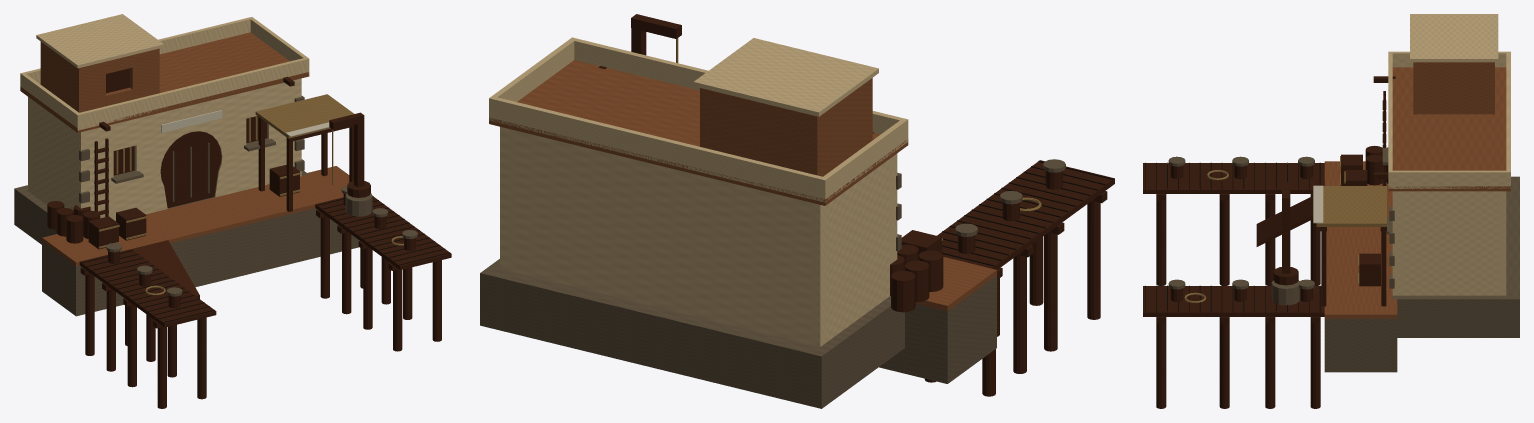
The model's file is Berber_Dock_Age4.fbx.
3 renders of one model, left to right at view 1: azimuth 30°, elevation 25°; view 2: azimuth 150°, elevation 25°; view 3: azimuth 270°, elevation 25°, orthographic. The views are drawn at different scales.
Parts seen in each view (by area): view 1: warehouse_front, quay_foundation, quay_deck, warehouse_roof, upper_roof_storage, west_pier_deck, upper_storage_lime_cap, warehouse_side, roof_end_parapet, east_pier_deck, horseshoe_door, harbour_shade (+31 smaller); view 2: warehouse_back, warehouse_land_plinth, warehouse_roof, upper_roof_storage, warehouse_side, roof_end_parapet.001, upper_storage_lime_cap, west_pier_deck, quay_foundation, roof_end_parapet, roof_side_parapet, quay_deck (+12 smaller); view 3: warehouse_side.001, warehouse_roof, warehouse_land_plinth, quay_deck, west_pier_deck, east_pier_deck, upper_storage_lime_cap, upper_roof_storage, quay_foundation, harbour_shade, roof_side_parapet.001, west_slipway (+23 smaller).
Boxes of the visible parts, x1,y1,x2,y2 form: warehouse_front: [76, 78, 301, 220]; quay_foundation: [42, 208, 359, 316]; quay_deck: [42, 166, 349, 266]; warehouse_roof: [20, 32, 309, 132]; upper_roof_storage: [40, 42, 159, 112]; west_pier_deck: [79, 249, 216, 327]; upper_storage_lime_cap: [36, 14, 164, 68]; warehouse_side: [32, 100, 76, 210]; roof_end_parapet: [79, 58, 305, 129]; east_pier_deck: [315, 196, 451, 269]; horseshoe_door: [160, 131, 221, 207]; harbour_shade: [255, 94, 353, 138]; warehouse_back: [500, 127, 826, 346]; warehouse_land_plinth: [480, 259, 904, 408]; warehouse_roof: [489, 60, 908, 205]; upper_roof_storage: [700, 78, 872, 176]; warehouse_side: [826, 158, 891, 342]; roof_end_parapet.001: [494, 97, 822, 201]; upper_storage_lime_cap: [693, 38, 878, 116]; west_pier_deck: [937, 160, 1114, 269]; quay_foundation: [879, 275, 996, 383]; roof_end_parapet: [574, 38, 902, 134]; roof_side_parapet: [820, 118, 908, 202]; quay_deck: [915, 257, 996, 311]; warehouse_side.001: [1402, 191, 1497, 295]; warehouse_roof: [1388, 67, 1510, 191]; warehouse_land_plinth: [1392, 176, 1519, 337]; quay_deck: [1324, 161, 1397, 318]; west_pier_deck: [1143, 163, 1324, 193]; east_pier_deck: [1143, 286, 1324, 316]; upper_storage_lime_cap: [1410, 14, 1498, 62]; upper_roof_storage: [1413, 62, 1494, 114]; quay_foundation: [1324, 319, 1397, 372]; harbour_shade: [1316, 186, 1386, 226]; roof_side_parapet.001: [1388, 170, 1510, 188]; west_slipway: [1256, 196, 1313, 246].
Bounding box in the file's own units: 800 × 646 × 830.
7 materials, 7 textured.
